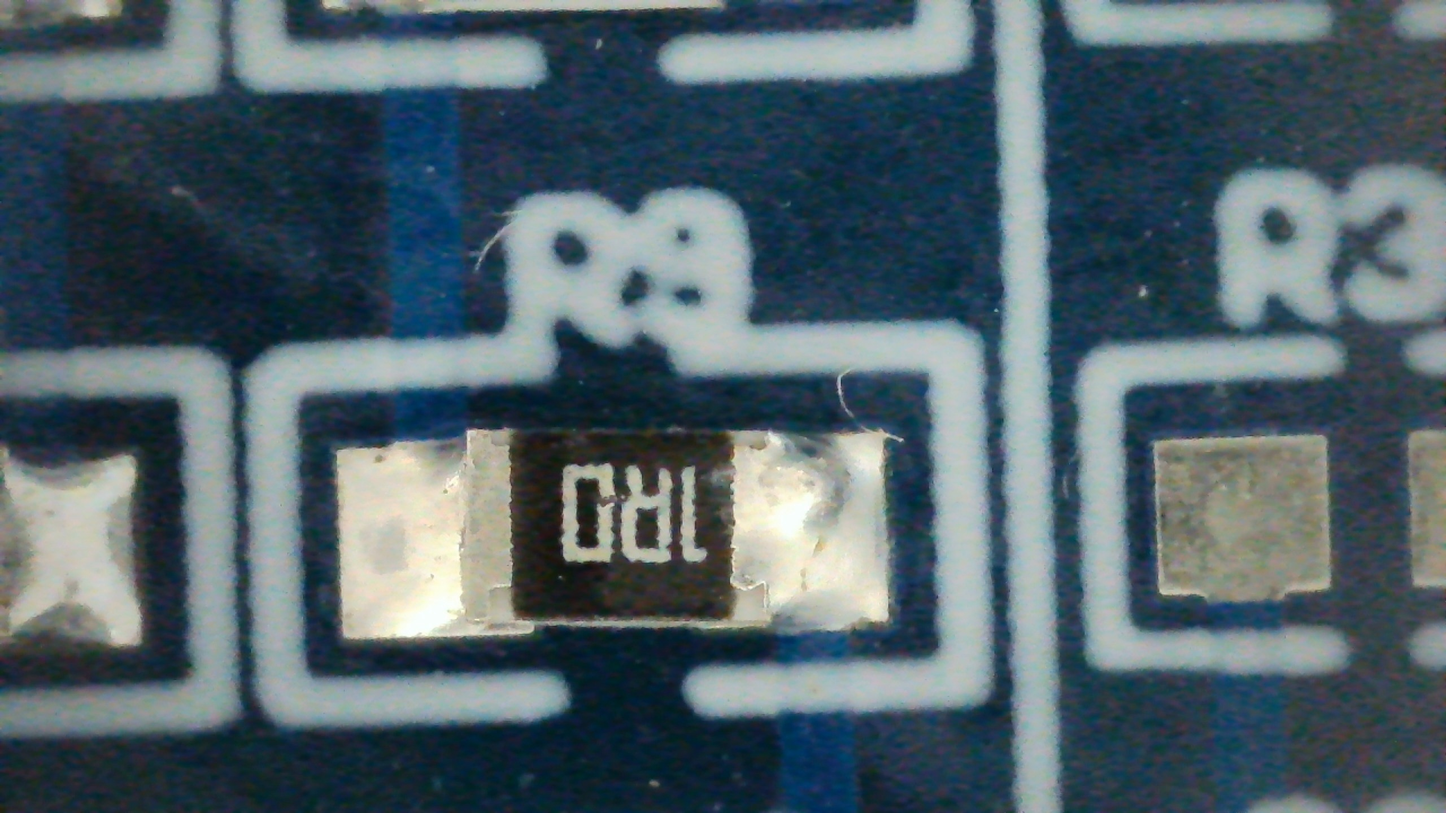OK: (336, 428, 890, 640)
